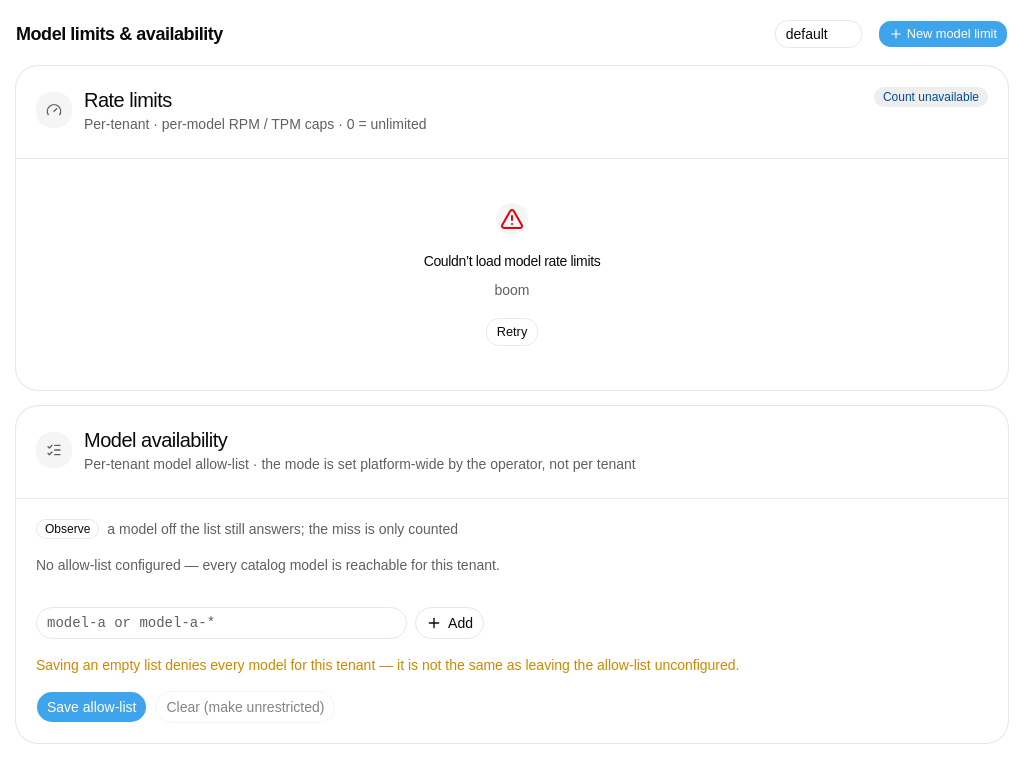
read failures are never an empty list › clears the limits error once a retry succeeds
Expected: the element with test id "limits-error" is shown, [424, 203, 600, 346]
Click the button "Retry" at coordinates (512, 332), box [486, 318, 538, 346]
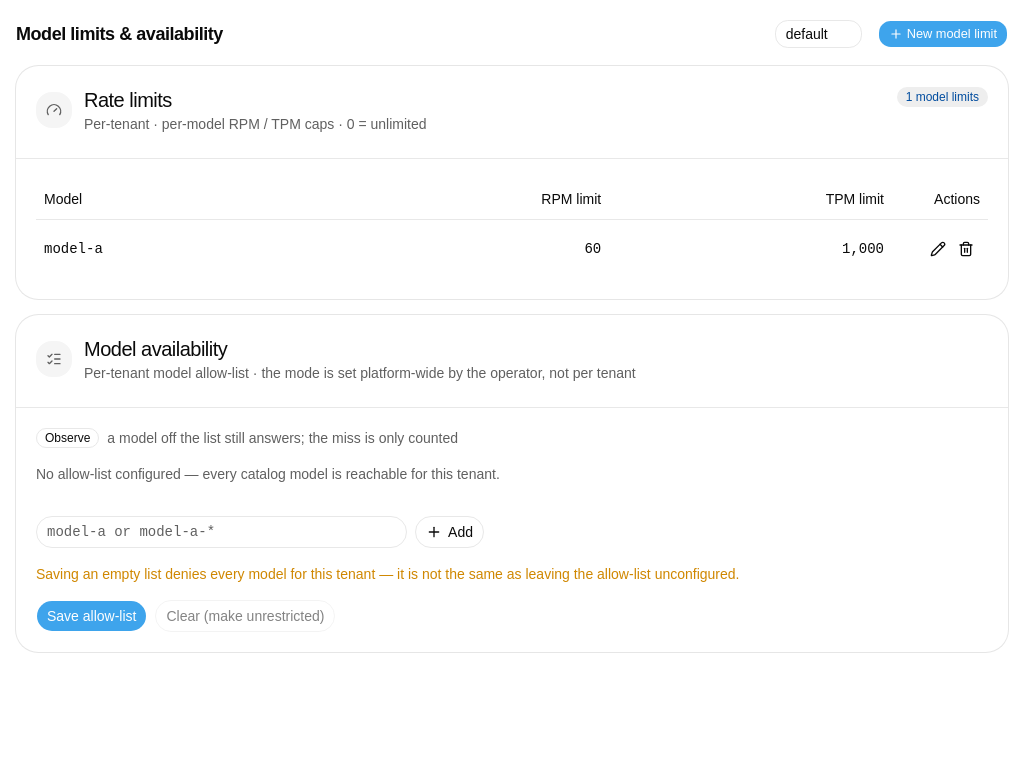
Expected: the row with test id "limit-row-3" is shown, [36, 219, 988, 279]
Expected: the element with test id "limits-error" is gone
